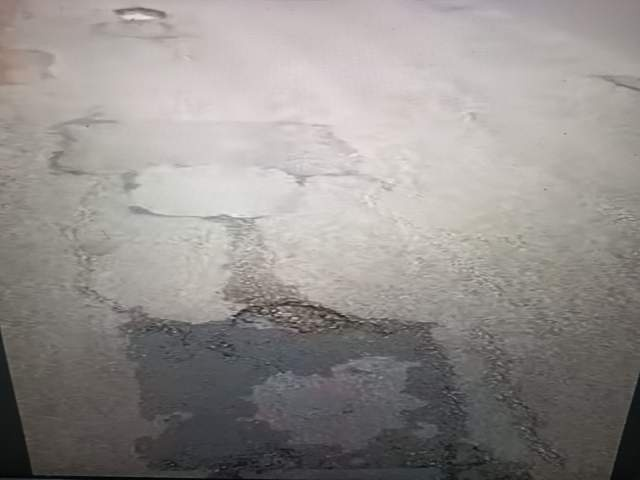pothole: (110, 403, 328, 480)
